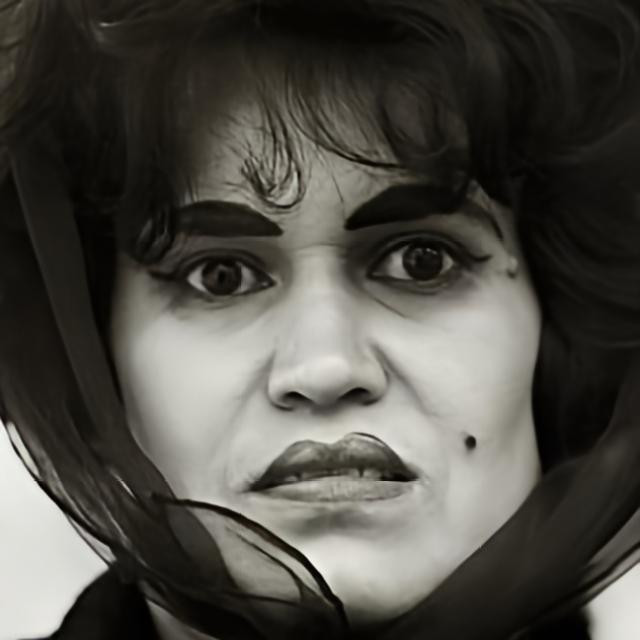disgust: (112, 37, 544, 626)
